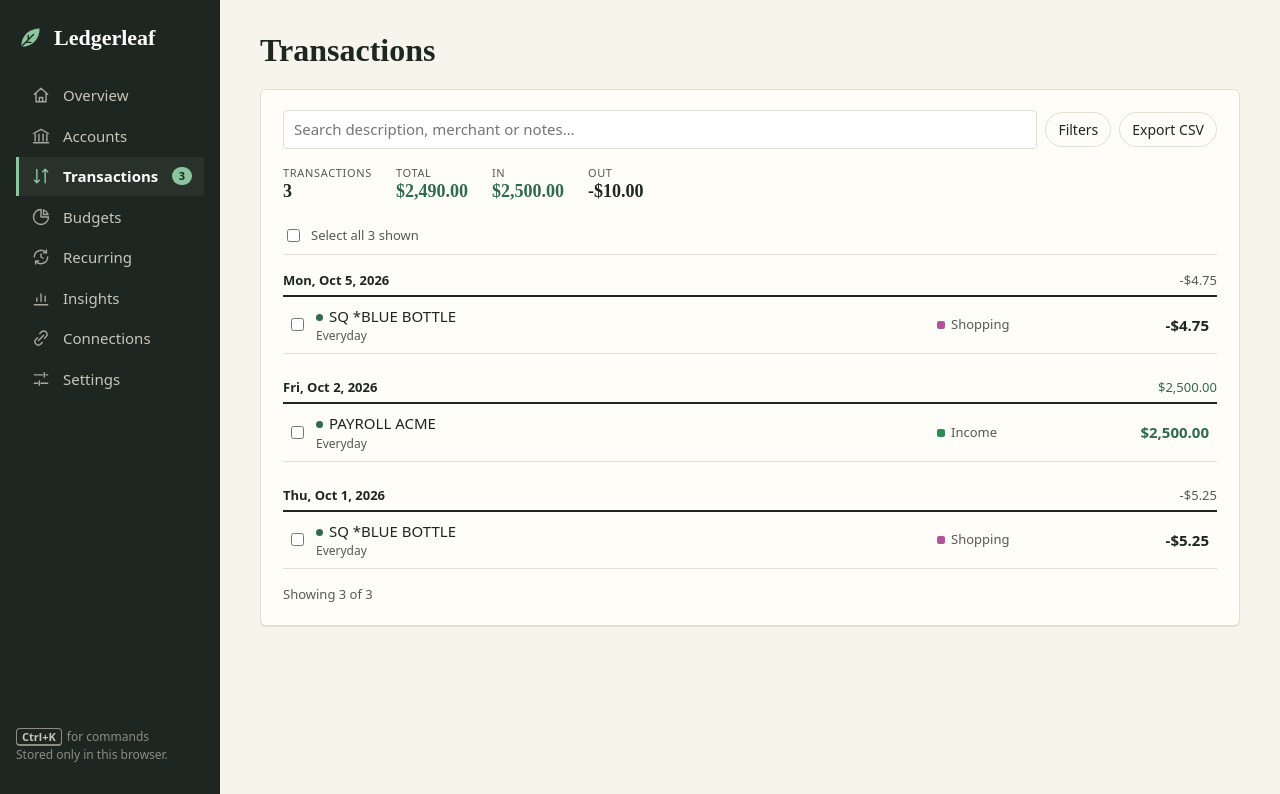
Scenario: transaction detail editing › renames the merchant and saves notes when the fields lose focus
The width and height of the screenshot is (1280, 794).
Click the button "PAYROLL ACME Everyday Income $2,500.00": (382, 423) [316, 404, 1217, 460]
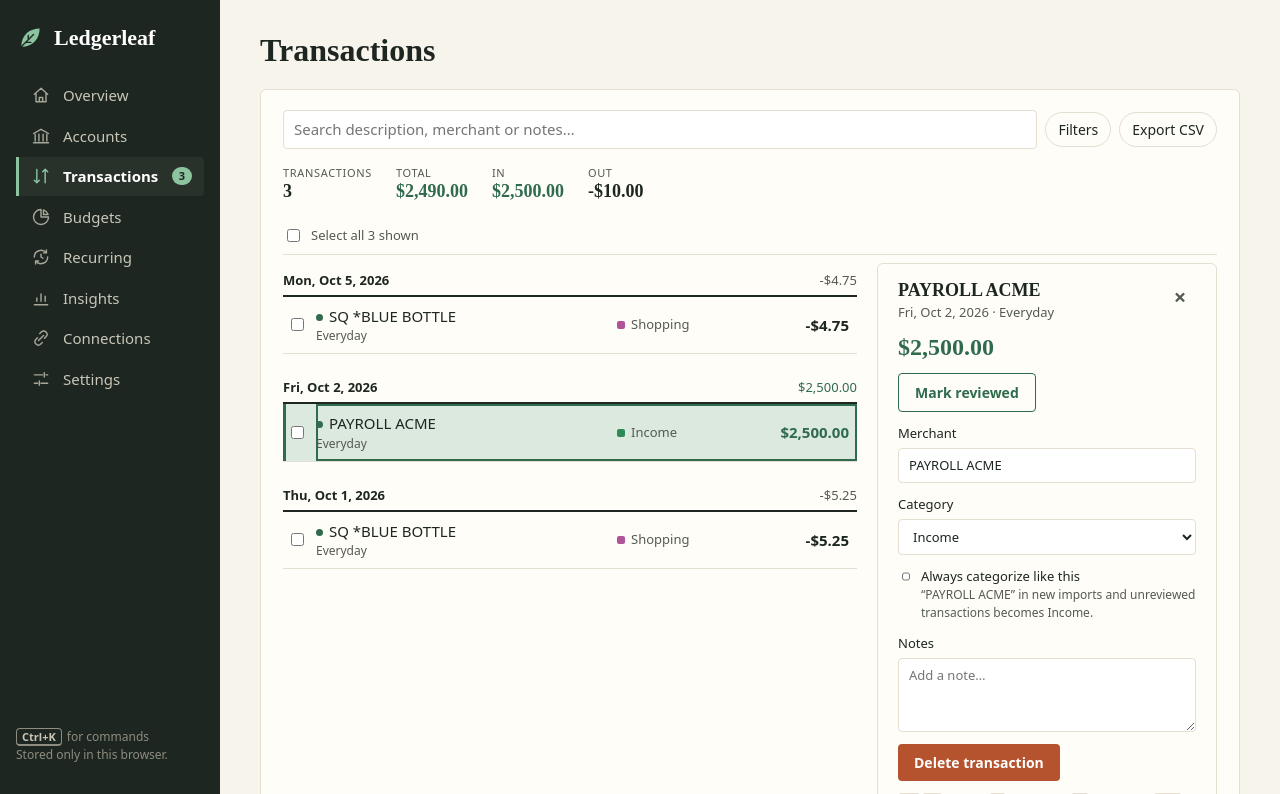
Now the field labelled "Merchant" holds "PAYROLL ACME"
Replace the text in the field labelled "Merchant" with "Acme Corp": (1047, 465) [898, 448, 1196, 483]
Then press Enter
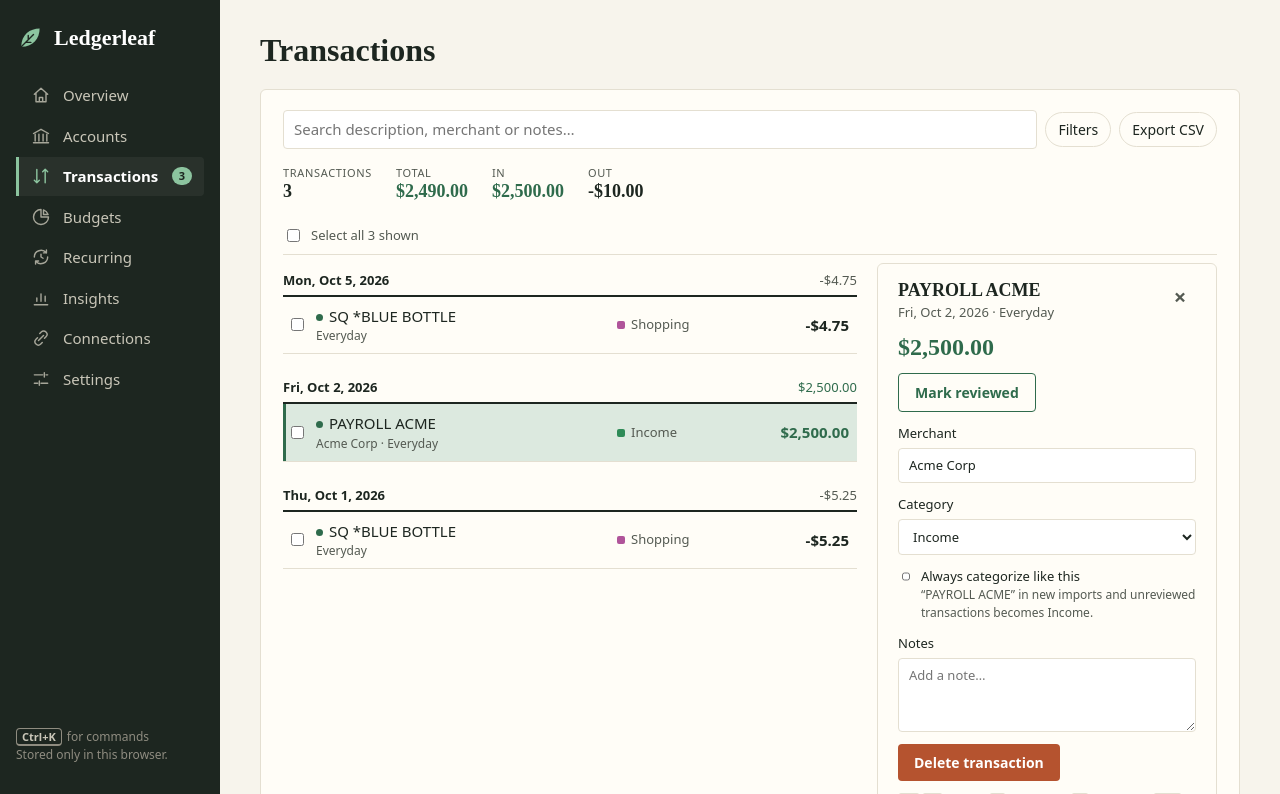
In the text box labelled "Notes": (1047, 695) [898, 658, 1196, 732], type "October salary"
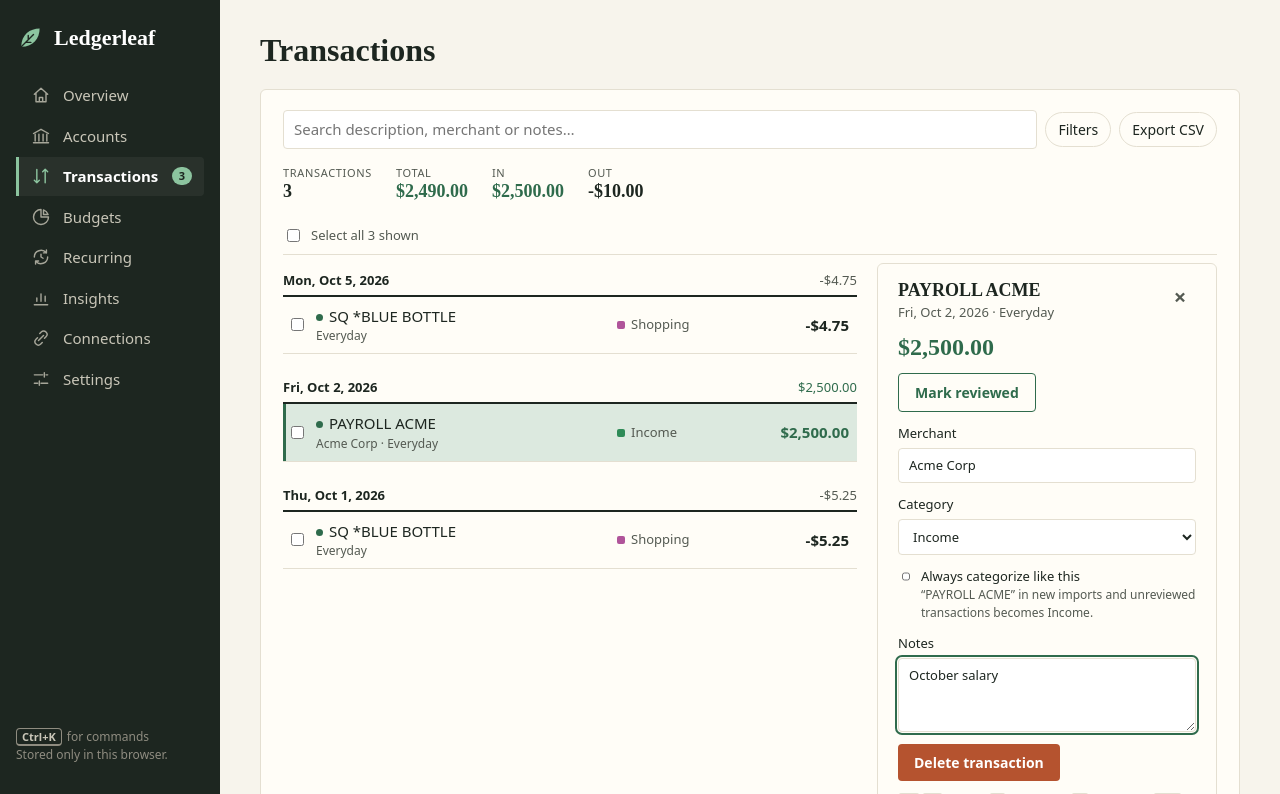
Press Tab
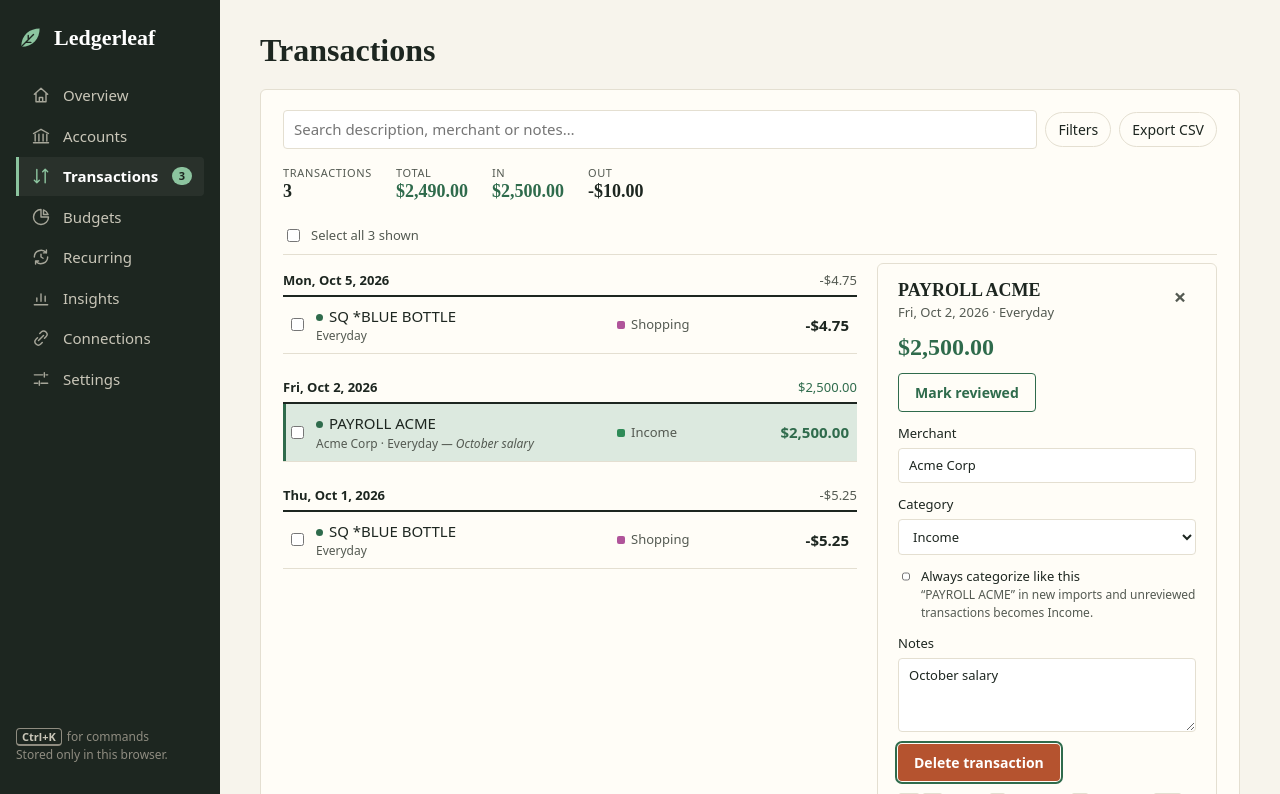
Now the button "PAYROLL ACME" shows "Acme Corp · Everyday", box [316, 404, 857, 460]
Now the button "PAYROLL ACME" shows "October salary", box [316, 404, 857, 460]
